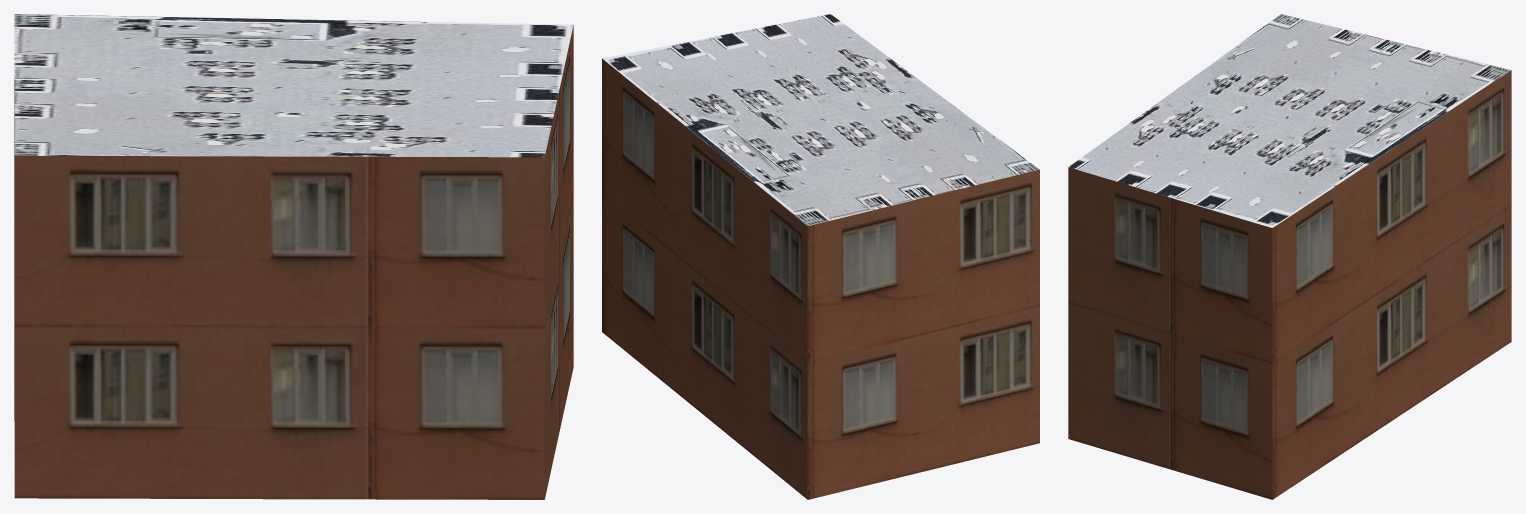
Rendered from ResTex__5198.fbx.
The picture shows the model from 3 angles, left to right: view 1: azimuth 30°, elevation 25°; view 2: azimuth 150°, elevation 25°; view 3: azimuth 270°, elevation 25°; orthographic projection. The views are drawn at different scales.
Parts seen in each view (by area): view 1: CityEngineMaterial_20_m, CityEngineMaterial_8_m; view 2: CityEngineMaterial_20_m, CityEngineMaterial_8_m; view 3: CityEngineMaterial_20_m, CityEngineMaterial_8_m.
Boxes of the visible parts, bbox=[...] form: CityEngineMaterial_20_m: bbox=[14, 25, 573, 499]; CityEngineMaterial_8_m: bbox=[14, 14, 573, 157]; CityEngineMaterial_20_m: bbox=[602, 58, 1039, 499]; CityEngineMaterial_8_m: bbox=[602, 14, 1039, 225]; CityEngineMaterial_20_m: bbox=[1068, 70, 1511, 499]; CityEngineMaterial_8_m: bbox=[1069, 14, 1511, 227].
Size of the model in its own units: 10.14 by 6 by 8.87.
2 materials, 2 textured.
